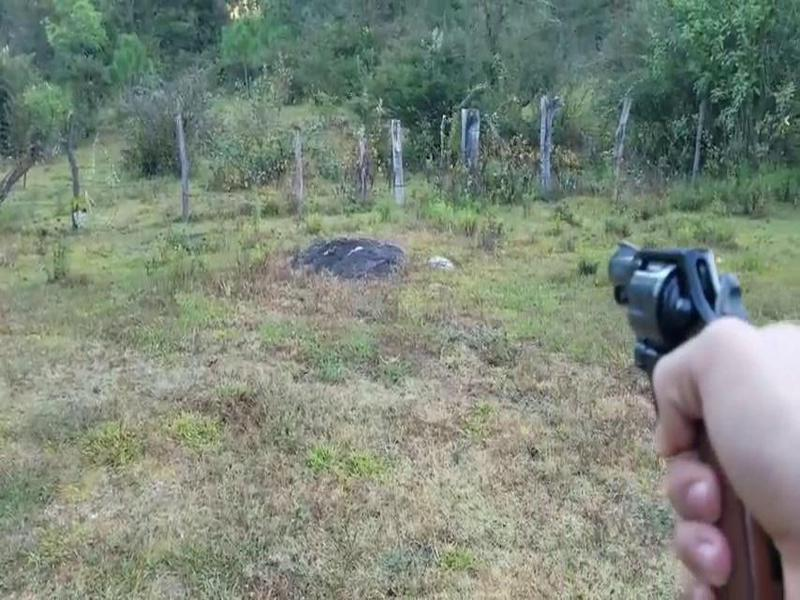Revolver: (587, 223, 795, 571)
